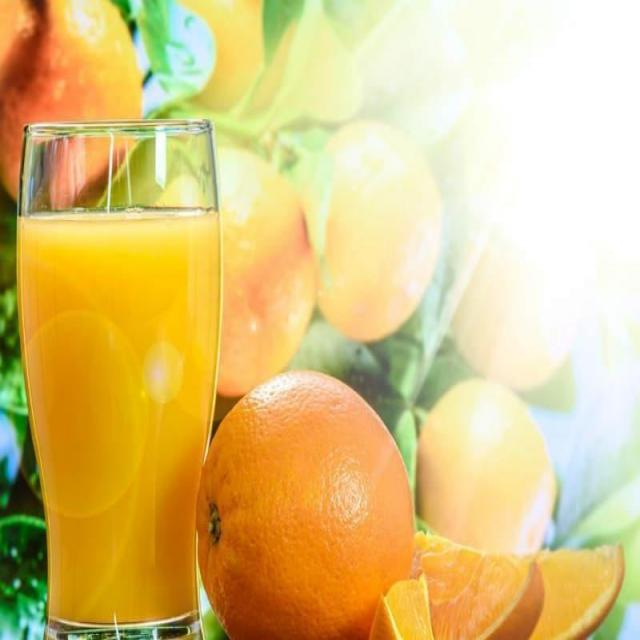glass-normal: (14, 116, 225, 638)
